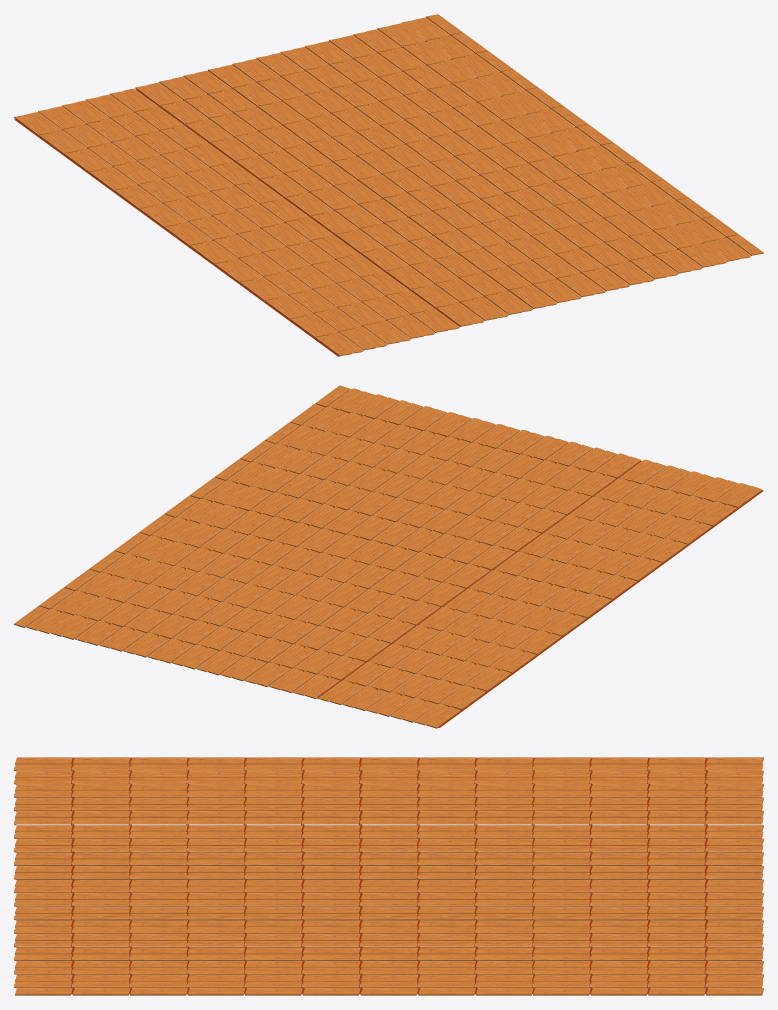
The model's file is Papan kayu.fbx.
The picture shows the model from 3 angles, top to bottom: view 1: azimuth 30°, elevation 25°; view 2: azimuth 150°, elevation 25°; view 3: azimuth 270°, elevation 25°; orthographic projection. The views are drawn at different scales.
Parts seen in each view (by area): view 1: papan kayu.002, papan kayu texture.005|papan kayu.002|Dupli|, papan kayu texture|papan kayu.002|Dupli|, papan kayu texture.011|papan kayu.002|Dupli|, papan kayu texture.004|papan kayu.002|Dupli|, papan kayu texture.010|papan kayu.002|Dupli|, papan kayu texture.006|papan kayu.002|Dupli|, papan kayu texture.009|papan kayu.002|Dupli|, papan kayu texture.003|papan kayu.002|Dupli|, papan kayu texture.007|papan kayu.002|Dupli|, papan kayu texture.001|papan kayu.002|Dupli|, papan kayu texture.008|papan kayu.002|Dupli| (+2 smaller); view 2: papan kayu texture.011|papan kayu.002|Dupli|, papan kayu texture.004|papan kayu.002|Dupli|, papan kayu.002, papan kayu texture.010|papan kayu.002|Dupli|, papan kayu texture.009|papan kayu.002|Dupli|, papan kayu texture.003|papan kayu.002|Dupli|, papan kayu texture.005|papan kayu.002|Dupli|, papan kayu texture.006|papan kayu.002|Dupli|, papan kayu texture.008|papan kayu.002|Dupli|, papan kayu texture.002|papan kayu.002|Dupli|, papan kayu texture|papan kayu.002|Dupli|, papan kayu texture.007|papan kayu.002|Dupli| (+2 smaller); view 3: papan kayu texture.005|papan kayu.002|Dupli|, papan kayu texture.009|papan kayu.002|Dupli|, papan kayu texture.002|papan kayu.002|Dupli|, papan kayu texture|papan kayu.002|Dupli|, papan kayu texture.010|papan kayu.002|Dupli|, papan kayu texture.007|papan kayu.002|Dupli|, papan kayu texture.004|papan kayu.002|Dupli|, papan kayu texture.011|papan kayu.002|Dupli|, papan kayu texture.001|papan kayu.002|Dupli|, papan kayu texture.006|papan kayu.002|Dupli|, papan kayu texture.003|papan kayu.002|Dupli|, papan kayu.002 (+2 smaller).
Part boxes in pixels (box(x1,y1,x2,y2)): papan kayu.002: box(315, 235, 763, 355); papan kayu texture.005|papan kayu.002|Dupli|: box(164, 124, 613, 245); papan kayu texture|papan kayu.002|Dupli|: box(290, 216, 738, 337); papan kayu texture.011|papan kayu.002|Dupli|: box(14, 14, 462, 135); papan kayu texture.004|papan kayu.002|Dupli|: box(190, 143, 638, 264); papan kayu texture.010|papan kayu.002|Dupli|: box(39, 32, 487, 153); papan kayu texture.006|papan kayu.002|Dupli|: box(139, 106, 588, 227); papan kayu texture.009|papan kayu.002|Dupli|: box(64, 51, 512, 172); papan kayu texture.003|papan kayu.002|Dupli|: box(215, 161, 663, 282); papan kayu texture.007|papan kayu.002|Dupli|: box(114, 87, 562, 208); papan kayu texture.001|papan kayu.002|Dupli|: box(265, 198, 713, 319); papan kayu texture.008|papan kayu.002|Dupli|: box(89, 69, 537, 190); papan kayu texture.011|papan kayu.002|Dupli|: box(14, 606, 460, 728); papan kayu texture.004|papan kayu.002|Dupli|: box(190, 477, 636, 599); papan kayu.002: box(315, 385, 762, 507); papan kayu texture.010|papan kayu.002|Dupli|: box(39, 587, 486, 709); papan kayu texture.009|papan kayu.002|Dupli|: box(64, 569, 511, 691); papan kayu texture.003|papan kayu.002|Dupli|: box(215, 459, 661, 581); papan kayu texture.005|papan kayu.002|Dupli|: box(164, 495, 611, 618); papan kayu texture.006|papan kayu.002|Dupli|: box(139, 514, 586, 636); papan kayu texture.008|papan kayu.002|Dupli|: box(89, 551, 536, 673); papan kayu texture.002|papan kayu.002|Dupli|: box(240, 440, 686, 562); papan kayu texture|papan kayu.002|Dupli|: box(290, 404, 737, 526); papan kayu texture.007|papan kayu.002|Dupli|: box(114, 532, 561, 654); papan kayu texture.005|papan kayu.002|Dupli|: box(359, 757, 418, 995); papan kayu texture.009|papan kayu.002|Dupli|: box(589, 757, 648, 995); papan kayu texture.002|papan kayu.002|Dupli|: box(186, 757, 245, 995); papan kayu texture|papan kayu.002|Dupli|: box(71, 757, 130, 995); papan kayu texture.010|papan kayu.002|Dupli|: box(647, 757, 706, 995); papan kayu texture.007|papan kayu.002|Dupli|: box(475, 757, 533, 995); papan kayu texture.004|papan kayu.002|Dupli|: box(302, 757, 360, 995); papan kayu texture.011|papan kayu.002|Dupli|: box(705, 757, 763, 995); papan kayu texture.001|papan kayu.002|Dupli|: box(129, 757, 187, 995); papan kayu texture.006|papan kayu.002|Dupli|: box(417, 757, 475, 995); papan kayu texture.003|papan kayu.002|Dupli|: box(244, 757, 302, 995); papan kayu.002: box(14, 757, 72, 995).
Bounding box in the file's own units: 1730 × 4.22 × 2306.
3 materials, 2 textured.
